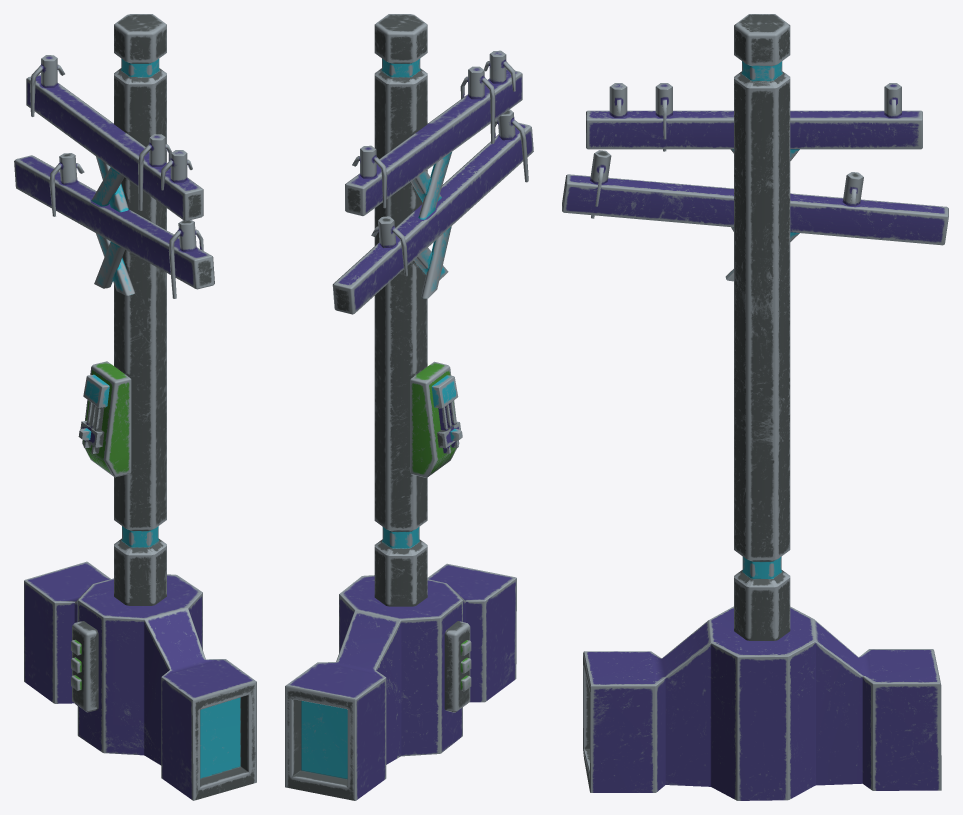
File: SM_Power_Pole_02.fbx
3 renders of one model, left to right at view 1: azimuth 30°, elevation 25°; view 2: azimuth 150°, elevation 25°; view 3: azimuth 270°, elevation 25°, orthographic. The views are drawn at different scales.
Parts seen in each view (by area): view 1: SM_Power_Pole_02; view 2: SM_Power_Pole_02; view 3: SM_Power_Pole_02.
Boxes of the visible parts, x1,y1,x2,y2 form: SM_Power_Pole_02: (14, 14, 256, 800); SM_Power_Pole_02: (285, 14, 533, 800); SM_Power_Pole_02: (562, 14, 948, 800).
Bounding box in the file's own units: 40.96 × 110 × 235.
1 material, 1 textured.
